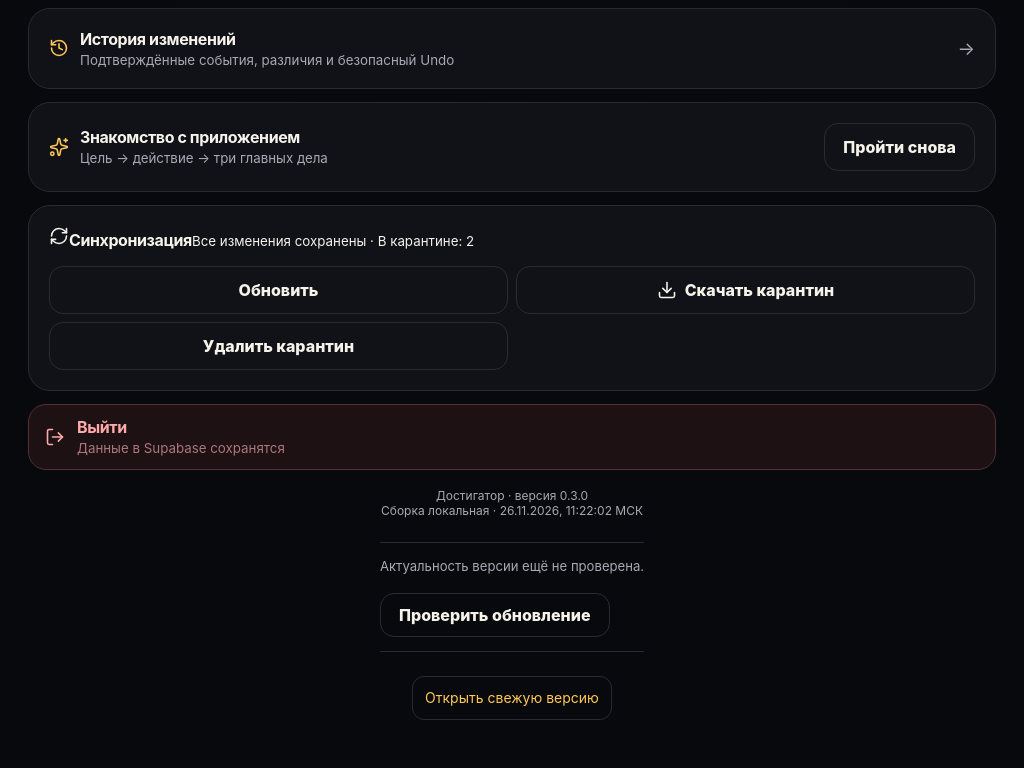
Scenario: backup and sync controls › does not show a current-version confirmation when the manual check fails or is offline
(page scrolled)
Step 1. Click the button "Проверить обновление" → [495, 614], box [380,592,610,636]
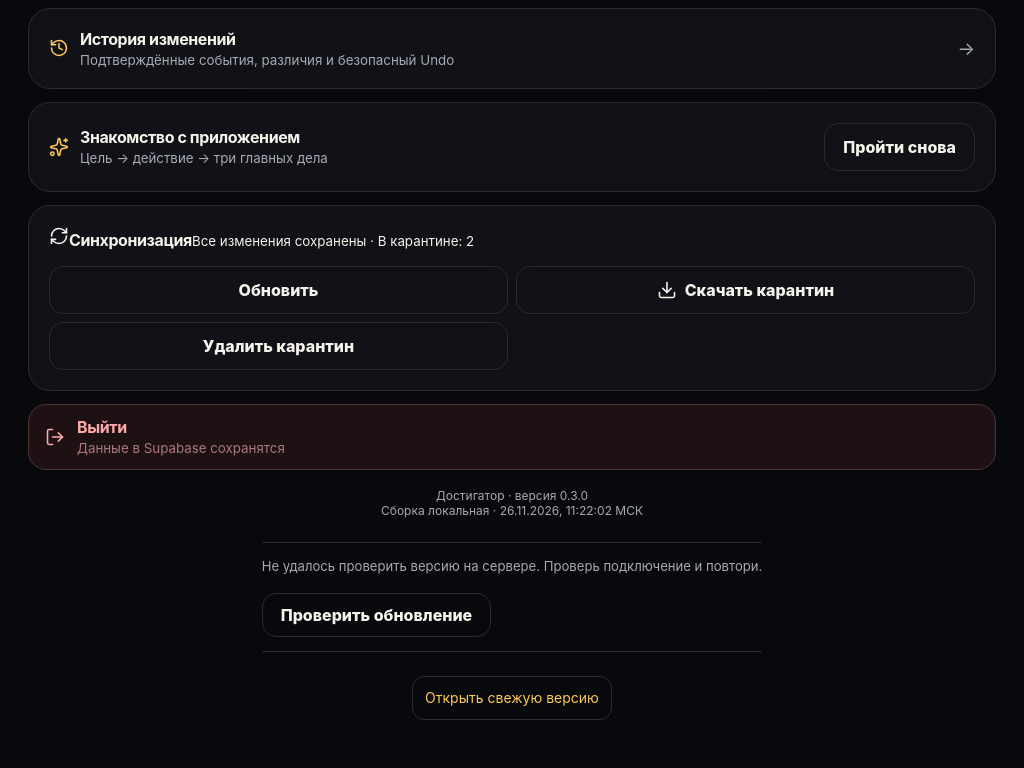
expect the message named "Проверка версии" shows "Не удалось проверить версию": met, box [262,558,762,574]
